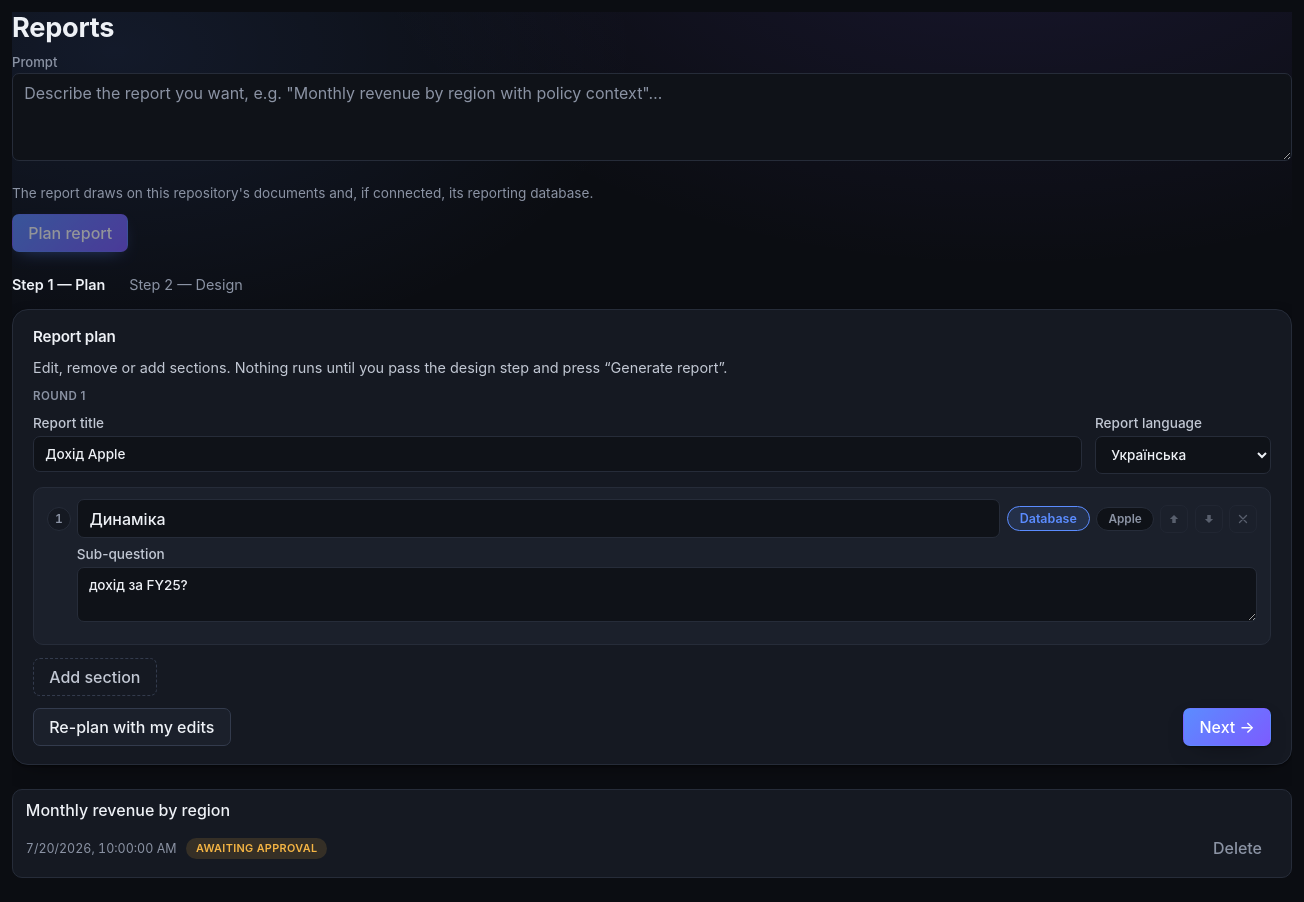
Scenario: ReportsPage › plan review › Back returns to the plan with the edit still present
Replace the text in the field showing "Динаміка" with "Змінено" at (539, 519), box [77, 499, 1000, 538]
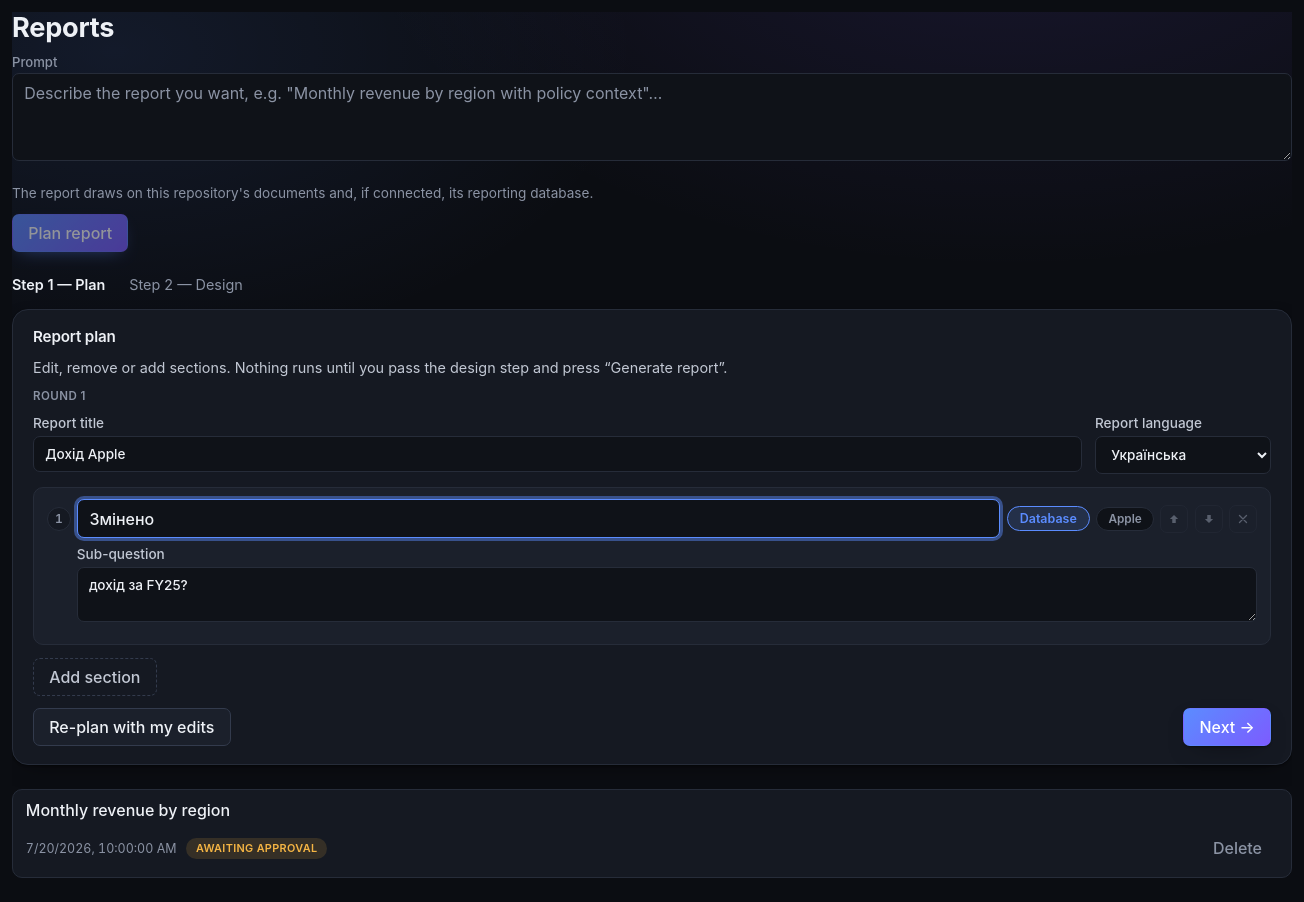
Click the button "Next →" at (1227, 727), box [1183, 708, 1271, 746]
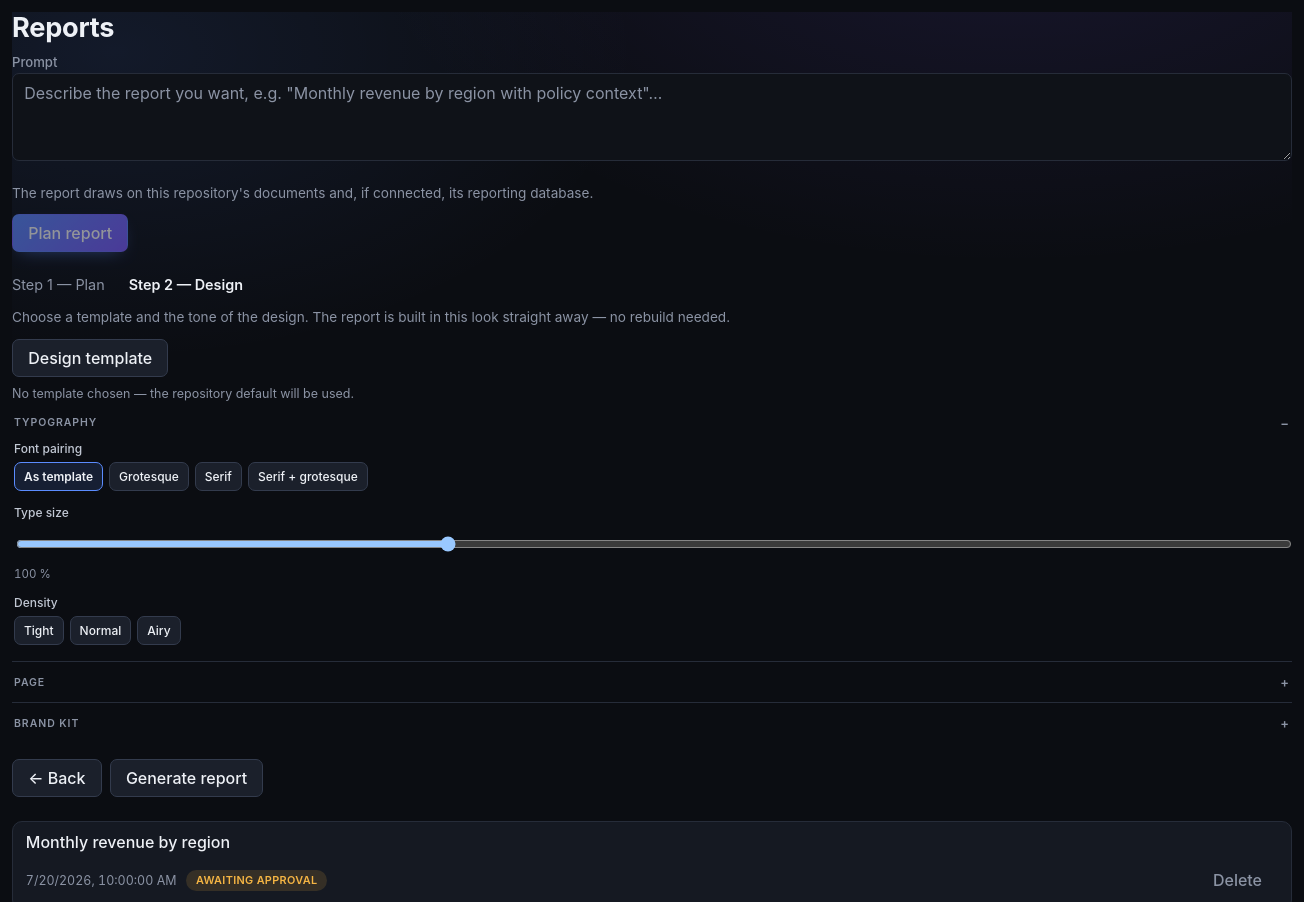
Click the button "← Back" at (57, 778), box [12, 759, 102, 797]
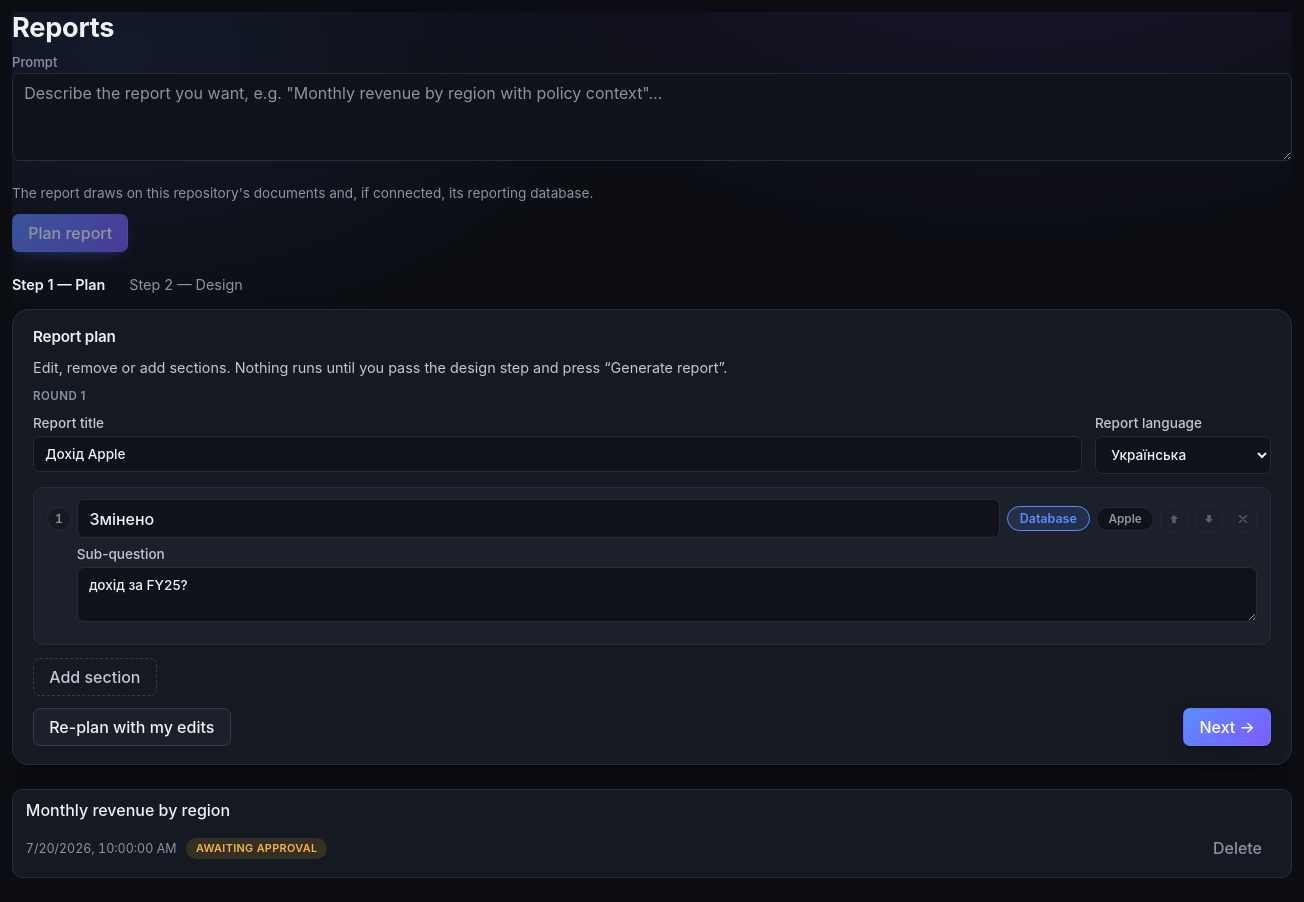
Expected: the field showing "Змінено" is shown, [77, 499, 1000, 538]
